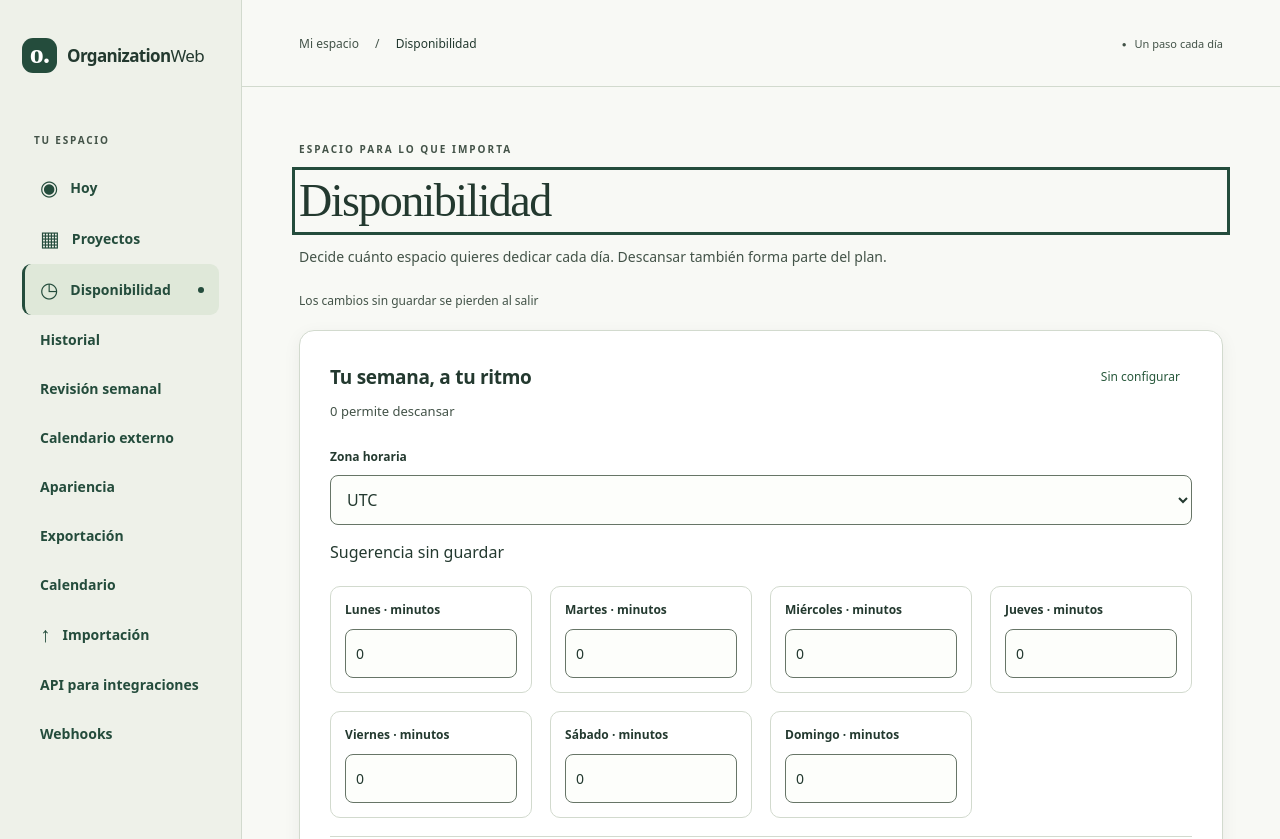
Scenario: @s31 el segundo guardado usa la revisión confirmada y retira la sugerencia inicial
This screenshot has width=1280, height=839.
Check: the text "Sin configurar" is shown, box [1089,361,1192,392]
Check: the text "Sugerencia sin guardar" is shown, box [330,541,504,563]
Replace the text in the number field labelled "Lunes · minutos" with "35" at x=431, y=654, box [345,629,517,678]
(page scrolled)
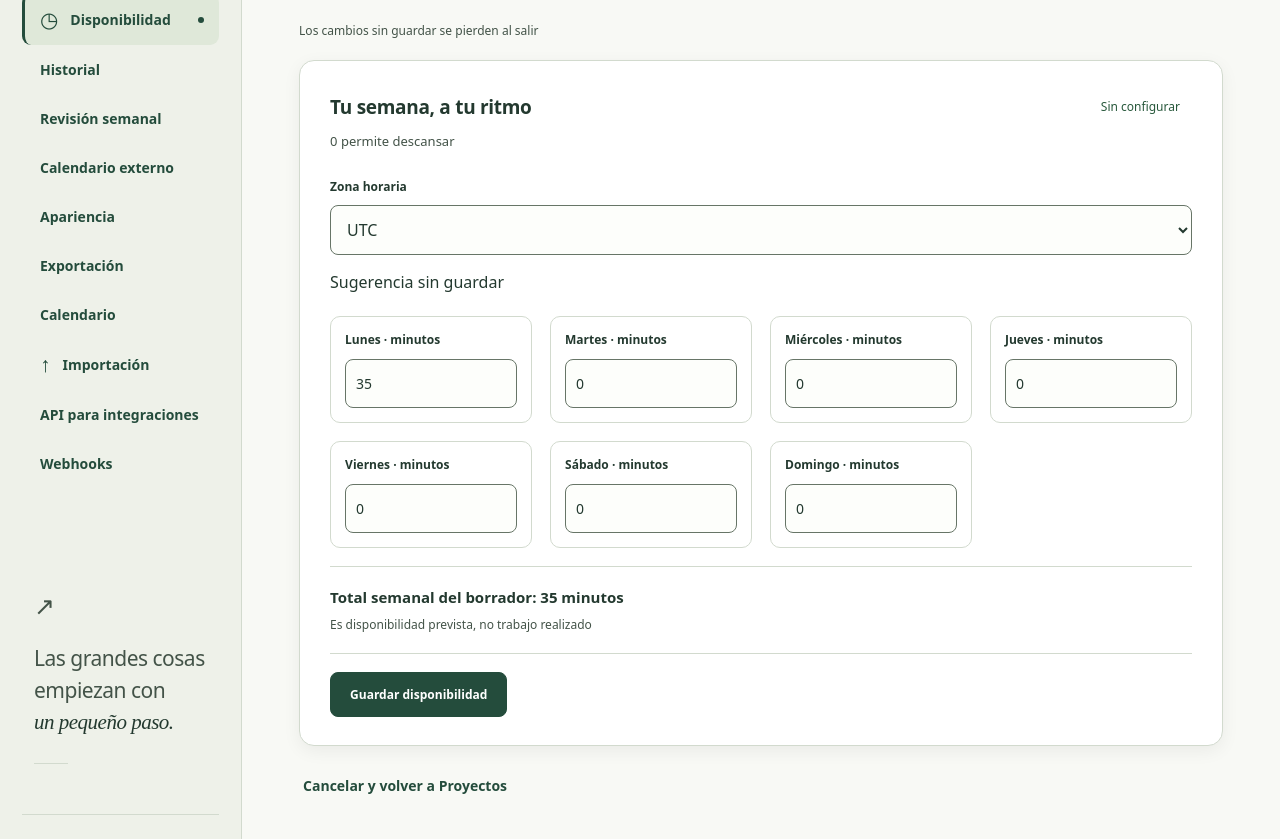
Click the button "Guardar disponibilidad" at x=419, y=694, box [330,672,507,716]
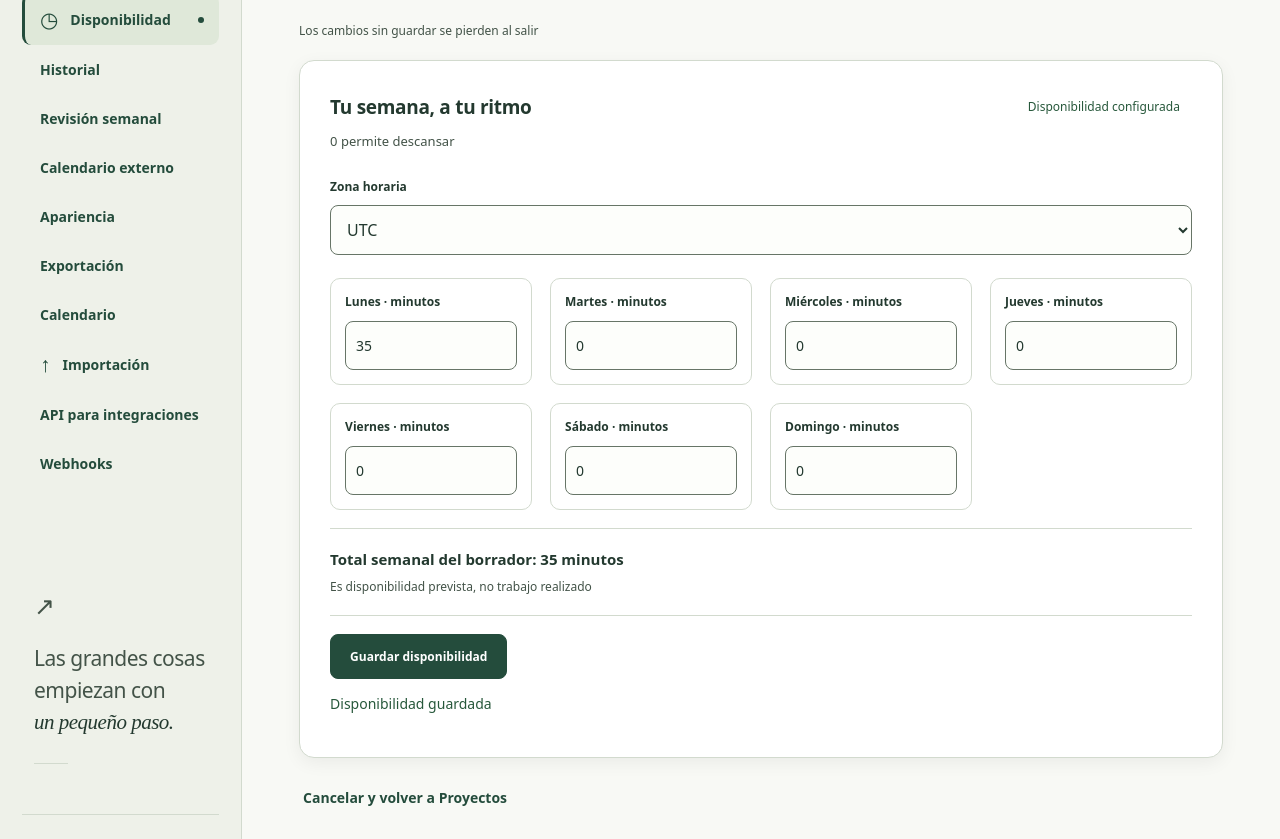
Check: the text "Disponibilidad guardada" is shown, box [330,694,492,712]
Check: the text "Disponibilidad configurada" is shown, box [1016,91,1192,122]
Check: the text "Sugerencia sin guardar" is gone
Replace the text in the number field labelled "Lunes · minutos" with "40" at x=431, y=346, box [345,321,517,370]
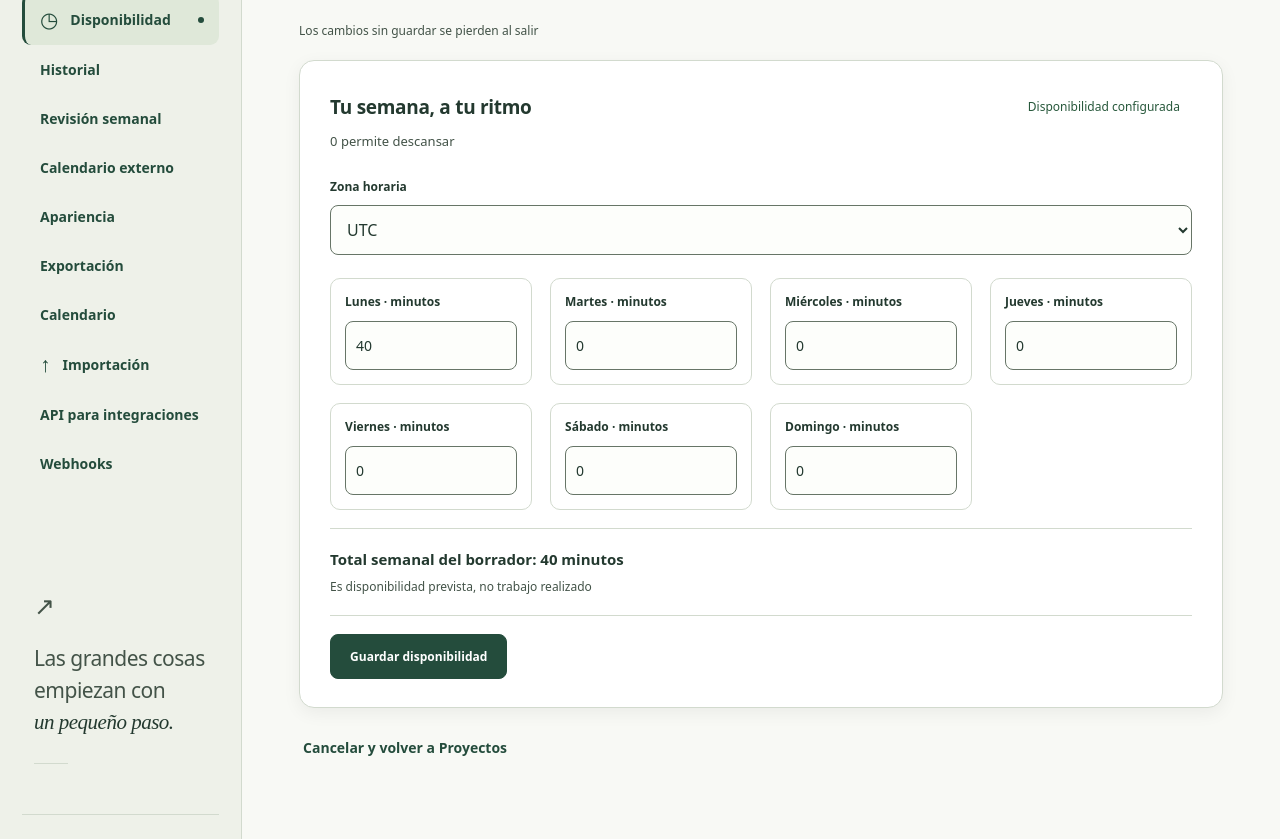
Click the button "Guardar disponibilidad" at x=419, y=656, box [330,634,507,678]
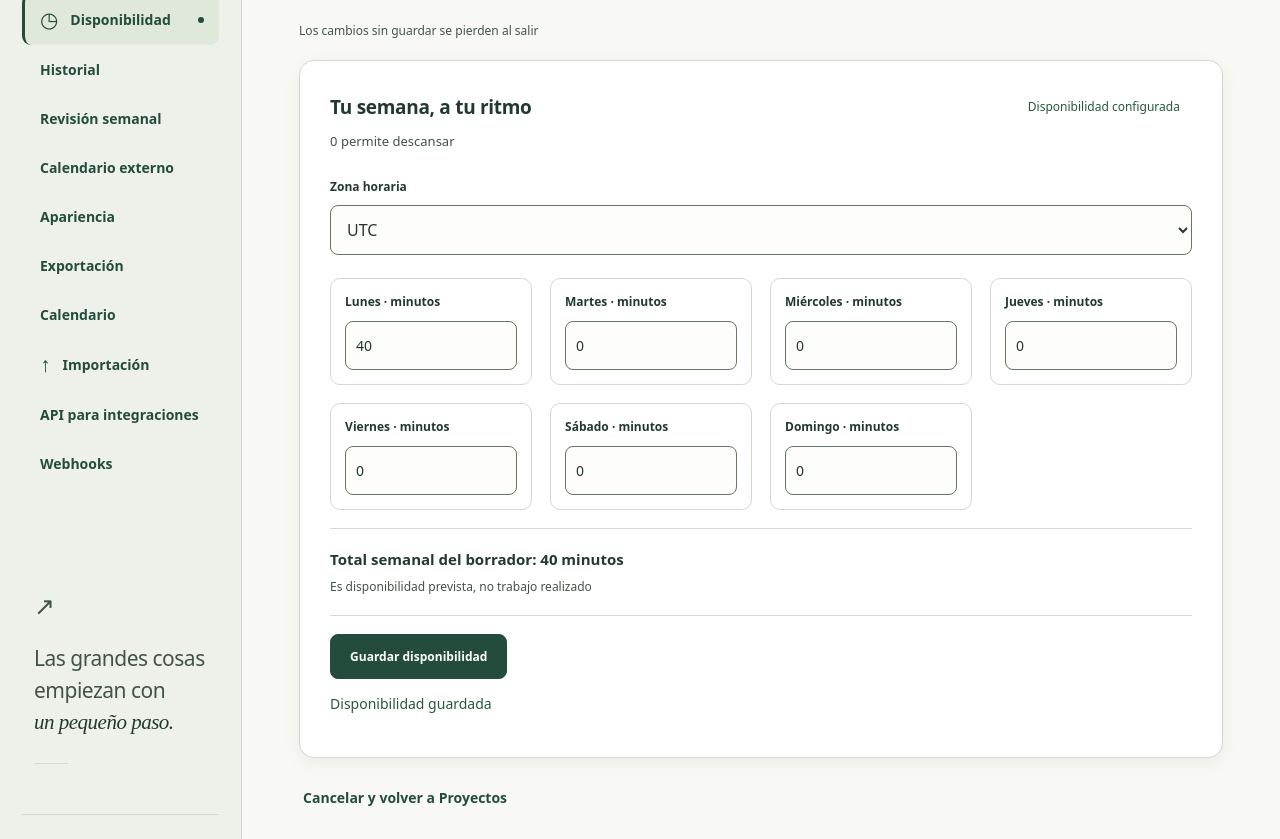
Check: the text "Disponibilidad guardada" is shown, box [330,694,492,712]
